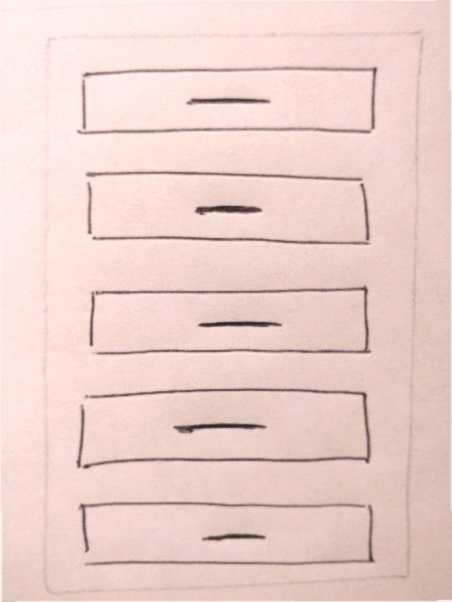button: (72, 489, 384, 576), (71, 384, 382, 471), (75, 60, 382, 141), (75, 168, 381, 249), (77, 280, 383, 361)
